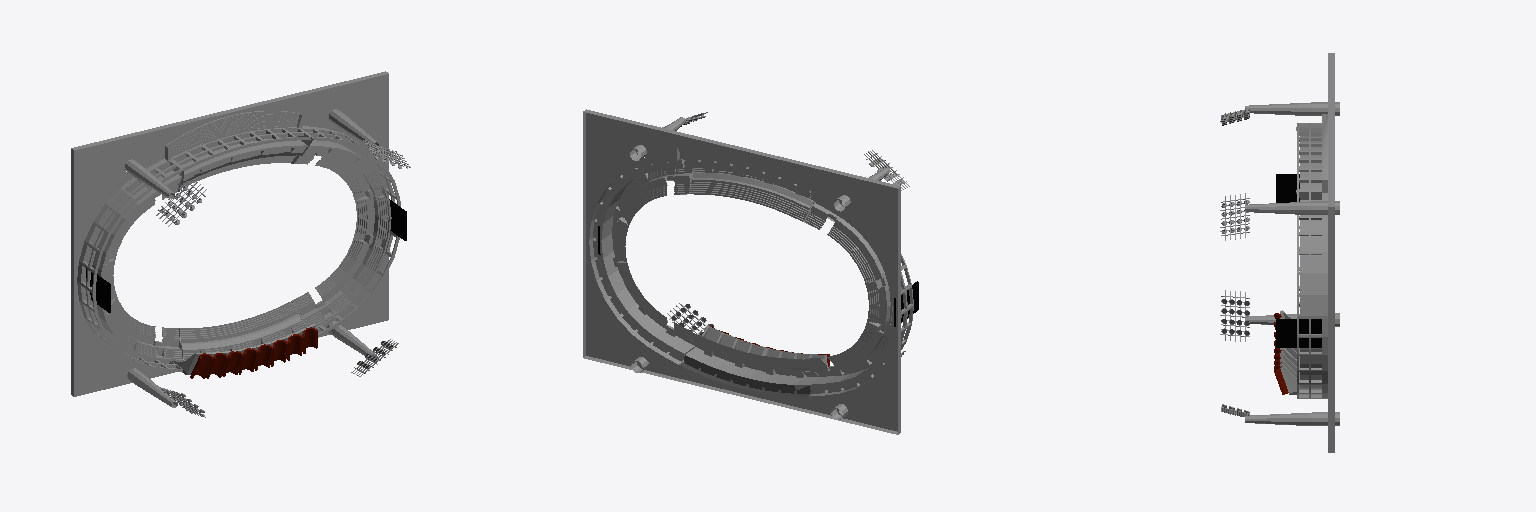
The model's file is Arene.obj.
3 renders of one model, left to right at view 1: azimuth 30°, elevation 25°; view 2: azimuth 150°, elevation 25°; view 3: azimuth 270°, elevation 25°, orthographic.
Parts seen in each view (by area): view 1: Base, Arene, Bordure, ToitDeco_Arene_011, Escaliers, Cylindre008, Cylindre007, Cylindre009, Cylindre006; view 2: Base, Arene, Bordure, Escaliers, BordureCentre; view 3: Bordure, Arene, Base, Ecran00, Cylindre009, Cylindre006, Cylindre008, Poutre_Arene_041, Ecran01.
Part boxes in pixels (x1,y1,x2,y2): Base: (71, 71, 388, 396); Arene: (92, 136, 391, 374); Bordure: (77, 126, 400, 372); ToitDeco_Arene_011: (190, 327, 317, 378); Escaliers: (165, 111, 301, 160); Cylindre008: (125, 159, 174, 199); Cylindre007: (127, 368, 177, 407); Cylindre009: (329, 109, 378, 145); Cylindre006: (327, 321, 377, 357); Base: (583, 109, 900, 434); Arene: (601, 159, 901, 390); Bordure: (589, 159, 913, 396); Escaliers: (677, 146, 810, 189); BordureCentre: (679, 355, 812, 396); Bordure: (1297, 123, 1327, 398); Arene: (1280, 127, 1321, 388); Base: (1328, 53, 1334, 452); Ecran00: (1276, 319, 1321, 347); Cylindre009: (1245, 201, 1339, 214); Cylindre006: (1245, 412, 1339, 425); Cylindre008: (1245, 102, 1339, 115); Poutre_Arene_041: (1280, 310, 1321, 393); Ecran01: (1276, 174, 1299, 202).
Size of the model in its own units: 945 by 722 by 309.